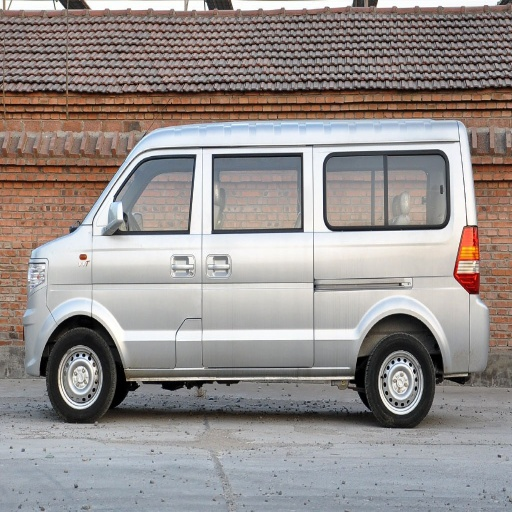back_left_door: (203, 149, 294, 307), (391, 152, 440, 207)
trunk: (327, 281, 470, 372), (226, 287, 281, 315)
